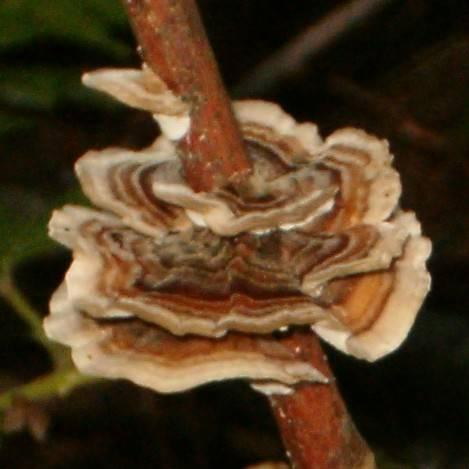poisonous_mushroom: (41, 64, 433, 398)
